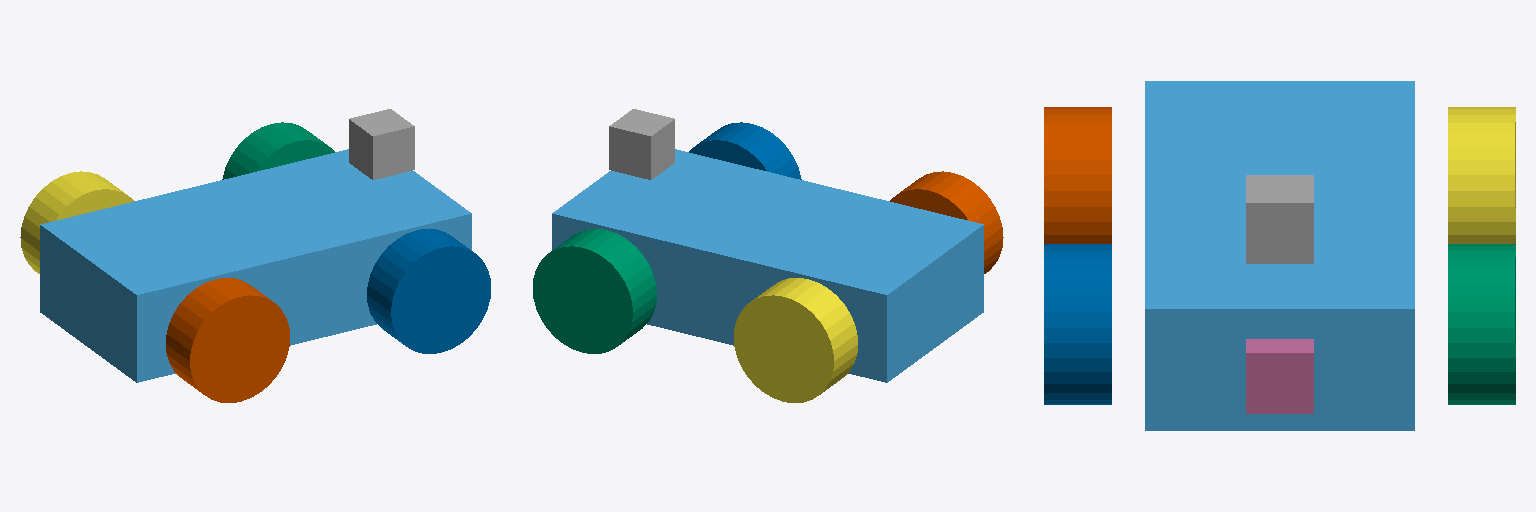
The robot description file, URDF, robot "mobot":
<?xml version="1.0" ?>
<!-- =================================================================================== -->
<!-- |    This document was autogenerated by xacro from [local-path]/ros2_ws/src/mobot/urdf/mobot.urdf.xacro | -->
<!-- |    EDITING THIS FILE BY HAND IS NOT RECOMMENDED                                 | -->
<!-- =================================================================================== -->
<robot name="mobot">
  <!--skid_steer_drive_controller-->
  <gazebo>
    <plugin filename="libgazebo_ros_diff_drive.so" name="skid_steer_drive_controller">
      <ros>
        <namespace>/mobot</namespace>
        <argument>/cmd_vel:=mr_cme_vel</argument>
        <argument>/odom:=odom</argument>
      </ros>
      <update_rate>100.0</update_rate>
      <num_wheel_pairs>2</num_wheel_pairs>
      <odometry_frame>odom</odometry_frame>
      <left_joint>front_left_wheel_joint</left_joint>
      <left_joint>back_left_wheel_joint</left_joint>
      <wheel_separation>0.4</wheel_separation>
      <wheel_diameter>0.2</wheel_diameter>
      <right_joint>front_right_wheel_joint</right_joint>
      <right_joint>back_right_wheel_joint</right_joint>
      <wheel_separation>0.4</wheel_separation>
      <wheel_diameter>0.2</wheel_diameter>
      <robot_base_frame>robot_footprint</robot_base_frame>
      <max_wheel_torque>20</max_wheel_torque>
      <publish_odom>true</publish_odom>
      <publish_odom_tf>true</publish_odom_tf>
      <publish_wheel_tf>true</publish_wheel_tf>
      <odometry_source>world</odometry_source>
    </plugin>
  </gazebo>
  <!-- camera -->
  <gazebo reference="camera">
    <sensor name="camera_sensor" type="camera">
      <update_rate>30.0</update_rate>
      <always_on>1</always_on>
      <camera name="camera">
        <horizontal_fov>1.3962634</horizontal_fov>
        <image>
          <width>800</width>
          <height>800</height>
          <format>R8G8B8</format>
        </image>
        <clip>
          <near>0.02</near>
          <far>300</far>
        </clip>
        <distortion>
          <k1>0.0</k1>
          <k2>0.0</k2>
          <k3>0.0</k3>
          <p1>0.0</p1>
          <p2>0.0</p2>
          <center>0.5 0.5</center>
        </distortion>
      </camera>
      <plugin filename="libgazebo_ros_camera.so" name="camera_controller">
        <ros>
          <namespace>/mobot</namespace>
          <argument>camera/image_raw:=/mobot/camera/image</argument>
          <argument>camera/camera_info:=/mobot/camera/image/camera_info</argument>
        </ros>
        <camera_name>camera</camera_name>
        <frame_name>camera</frame_name>
        <hack_baseline>0.07</hack_baseline>
      </plugin>
    </sensor>
  </gazebo>
  <!-- hokuyo -->
  <gazebo reference="hokuyo">
    <sensor name="head_hokuyo_sensor" type="ray">
      <pose>0 0 0 0 0 0</pose>
      <visualize>false</visualize>
      <update_rate>30</update_rate>
      <ray>
        <scan>
          <horizontal>
            <samples>720</samples>
            <resolution>1</resolution>
            <min_angle>-1.570796</min_angle>
            <max_angle>1.570796</max_angle>
          </horizontal>
        </scan>
        <range>
          <min>0.10</min>
          <max>30.0</max>
          <resolution>0.01</resolution>
        </range>
        <noise>
          <type>gaussian</type>
          <!-- Noise parameters based on published spec for Hokuyo laser
                achieving "+-30mm" accuracy at range < 10m.  A mean of 0.0m and
                stddev of 0.01m will put 99.7% of samples within 0.03m of the true
                reading. -->
          <mean>0.0</mean>
          <stddev>0.01</stddev>
        </noise>
      </ray>
      <update_rate>30</update_rate>
      <plugin filename="libgazebo_ros_ray_sensor.so" name="gazebo_ros_head_hokuyo_controller">
        <ros>
          <namespace>/mobot</namespace>
          <argument>~/out:=scan</argument>
        </ros>
        <output_type>sensor_msgs/LaserScan</output_type>
      </plugin>
    </sensor>
  </gazebo>
  <link name="robot_footprint"/>
  <joint name="robot_footprint_joint" type="fixed">
    <origin rpy="0 0 0" xyz="0 0 0"/>
    <parent link="robot_footprint"/>
    <child link="chassis"/>
  </joint>
  <link name="chassis">
    <pose>0 0 0.1 0 0 0</pose>
    <inertial>
      <mass value="15.0"/>
      <origin rpy=" 0 0 0" xyz="0.0 0 0"/>
      <inertia ixx="0.1" ixy="0" ixz="0" iyy="0.1" iyz="0" izz="0.1"/>
    </inertial>
    <collision name="collision">
      <origin rpy=" 0 0 0" xyz="0 0 0"/>
      <geometry>
        <box size=".4 .2 .1"/>
      </geometry>
    </collision>
    <visual name="chassis_visual">
      <origin rpy=" 0 0 0" xyz="0 0 0"/>
      <geometry>
        <box size=".4 .2 .1"/>
      </geometry>
    </visual>
  </link>
  <link name="front_left_wheel">
    <inertial>
      <mass value="5.0"/>
      <origin rpy=" 0 1.5707 1.5707" xyz="0.0 0 0"/>
      <inertia ixx="0.1" ixy="0" ixz="0" iyy="0.1" iyz="0" izz="0.1"/>
    </inertial>
    <visual>
      <origin rpy=" 0 1.5707 1.5707" xyz="0.0 0 0"/>
      <geometry>
        <cylinder length="0.05" radius="0.06"/>
      </geometry>
    </visual>
    <collision>
      <origin rpy=" 0 1.5707 1.5707" xyz="0.0 0 0"/>
      <geometry>
        <cylinder length="0.05" radius="0.06"/>
      </geometry>
    </collision>
  </link>
  <link name="back_left_wheel">
    <inertial>
      <mass value="5.0"/>
      <origin rpy=" 0 1.5707 1.5707" xyz="0.0 0 0"/>
      <inertia ixx="0.1" ixy="0" ixz="0" iyy="0.1" iyz="0" izz="0.1"/>
    </inertial>
    <visual>
      <origin rpy=" 0 1.5707 1.5707" xyz="0.0 0 0"/>
      <geometry>
        <cylinder length="0.05" radius="0.06"/>
      </geometry>
    </visual>
    <collision>
      <origin rpy=" 0 1.5707 1.5707" xyz="0.0 0 0"/>
      <geometry>
        <cylinder length="0.05" radius="0.06"/>
      </geometry>
    </collision>
  </link>
  <link name="front_right_wheel">
    <inertial>
      <mass value="5.0"/>
      <origin rpy=" 0 1.5707 1.5707" xyz="0.0 0 0"/>
      <inertia ixx="0.1" ixy="0" ixz="0" iyy="0.1" iyz="0" izz="0.1"/>
    </inertial>
    <visual>
      <origin rpy=" 0 1.5707 1.5707" xyz="0.0 0 0"/>
      <geometry>
        <cylinder length="0.05" radius="0.06"/>
      </geometry>
    </visual>
    <collision>
      <origin rpy=" 0 1.5707 1.5707" xyz="0.0 0 0"/>
      <geometry>
        <cylinder length="0.05" radius="0.06"/>
      </geometry>
    </collision>
  </link>
  <link name="back_right_wheel">
    <inertial>
      <mass value="5.0"/>
      <origin rpy=" 0 1.5707 1.5707" xyz="0.0 0 0"/>
      <inertia ixx="0.1" ixy="0" ixz="0" iyy="0.1" iyz="0" izz="0.1"/>
    </inertial>
    <visual>
      <origin rpy=" 0 1.5707 1.5707" xyz="0.0 0 0"/>
      <geometry>
        <cylinder length="0.05" radius="0.06"/>
      </geometry>
    </visual>
    <collision>
      <origin rpy=" 0 1.5707 1.5707" xyz="0.0 0 0"/>
      <geometry>
        <cylinder length="0.05" radius="0.06"/>
      </geometry>
    </collision>
  </link>
  <link name="camera">
    <inertial>
      <mass value="0.1"/>
      <origin rpy=" 0 0 0" xyz="0.05 0.05 0.05"/>
      <inertia ixx="1e-6" ixy="0" ixz="0" iyy="1e-6" iyz="0" izz="1e-6"/>
    </inertial>
    <visual name="camera_visual">
      <origin rpy="0 0 0" xyz="0 0 0"/>
      <geometry>
        <box size="0.05 0.05 0.05"/>
      </geometry>
    </visual>
    <collision name="camera_colision">
      <origin rpy="0 0 0" xyz="0 0 0"/>
      <geometry>
        <box size="0.05 0.05 0.05"/>
      </geometry>
    </collision>
  </link>
  <link name="hokuyo">
    <inertial>
      <mass value="1e-5"/>
      <origin rpy=" 0 0 0" xyz="0 0 0"/>
      <inertia ixx="1e-6" ixy="0" ixz="0" iyy="1e-6" iyz="0" izz="1e-6"/>
    </inertial>
    <visual name="hokuyo_visual">
      <origin rpy="0 0 0" xyz="0 0 0"/>
      <geometry>
        <!-- <mesh filename="$(find mobot)/meshes/hokuyo.dae"/> -->
        <box size="0.05 0.05 0.05"/>
      </geometry>
    </visual>
    <collision name="hokuyo_colision">
      <origin rpy="0 0 0" xyz="0 0 0"/>
      <geometry>
        <box size="0.1 0.1 0.1"/>
      </geometry>
    </collision>
  </link>
  <joint name="front_left_wheel_joint" type="continuous">
    <origin rpy="0 0 0" xyz="0.12 0.15 0"/>
    <child link="front_left_wheel"/>
    <parent link="chassis"/>
    <axis rpy="0 0 0" xyz="0 1 0"/>
    <limit effort="10000" velocity="1000"/>
    <dynamics damping="1.0" friction="1.0"/>
  </joint>
  <joint name="front_right_wheel_joint" type="continuous">
    <origin rpy="0 0 0" xyz="0.12 -0.15 0"/>
    <child link="front_right_wheel"/>
    <parent link="chassis"/>
    <axis rpy="0 0 0" xyz="0 1 0"/>
    <limit effort="10000" velocity="1000"/>
    <dynamics damping="1.0" friction="1.0"/>
  </joint>
  <joint name="back_left_wheel_joint" type="continuous">
    <origin rpy="0 0 0" xyz="-0.12 0.15 0"/>
    <child link="back_left_wheel"/>
    <parent link="chassis"/>
    <axis rpy="0 0 0" xyz="0 1 0"/>
    <limit effort="10000" velocity="1000"/>
    <dynamics damping="1.0" friction="1.0"/>
  </joint>
  <joint name="back_right_wheel_joint" type="continuous">
    <origin rpy="0 0 0" xyz="-0.12 -0.15 0"/>
    <child link="back_right_wheel"/>
    <parent link="chassis"/>
    <axis rpy="0 0 0" xyz="0 1 0"/>
    <limit effort="10000" velocity="1000"/>
    <dynamics damping="1.0" friction="1.0"/>
  </joint>
  <joint name="camera_joint" type="fixed">
    <origin rpy="0 0 0" xyz="0.2 0 0"/>
    <child link="camera"/>
    <parent link="chassis"/>
    <axis rpy="0 0 0" xyz="0 1 0"/>
  </joint>
  <joint name="hokuyo_joint" type="fixed">
    <origin rpy="0 0 0" xyz="0.15 0 0.1"/>
    <child link="hokuyo"/>
    <parent link="chassis"/>
    <axis rpy="0 0 0" xyz="0 1 0"/>
  </joint>
  <gazebo reference="chassis">
    <material>Gazebo/Blue</material>
  </gazebo>
  <gazebo reference="camera">
    <material>Gazebo/Red</material>
  </gazebo>
  <gazebo reference="hokuyo">
    <material>Gazebo/Black</material>
  </gazebo>
  <gazebo reference="front_left_wheel">
    <material>Gazebo/Gray</material>
  </gazebo>
  <gazebo reference="back_left_wheel">
    <material>Gazebo/Gray</material>
  </gazebo>
  <gazebo reference="front_right_wheel">
    <material>Gazebo/Gray</material>
  </gazebo>
  <gazebo reference="back_right_wheel">
    <material>Gazebo/Gray</material>
  </gazebo>
</robot>

--- Render facts (derived) ---
The picture shows the robot from 3 angles, left to right: view 1: azimuth 30°, elevation 25°; view 2: azimuth 150°, elevation 25°; view 3: azimuth 270°, elevation 25°; orthographic projection.
Model mobot with 8 links and 7 joints (4 continuous, 3 fixed), rooted at robot_footprint, posed all joints at 0.
Links seen in each view (by area): view 1: chassis, back_right_wheel, front_right_wheel, back_left_wheel, hokuyo, front_left_wheel; view 2: chassis, back_left_wheel, front_left_wheel, back_right_wheel, hokuyo, front_right_wheel; view 3: chassis, front_left_wheel, front_right_wheel, back_left_wheel, back_right_wheel, hokuyo, camera.
Link boxes in pixels (bbox=[...]): chassis: bbox=[40, 149, 471, 382]; back_right_wheel: bbox=[166, 278, 289, 402]; front_right_wheel: bbox=[367, 229, 490, 353]; back_left_wheel: bbox=[20, 171, 133, 273]; hokuyo: bbox=[349, 109, 414, 179]; front_left_wheel: bbox=[222, 122, 334, 179]; chassis: bbox=[552, 149, 983, 382]; back_left_wheel: bbox=[734, 278, 857, 402]; front_left_wheel: bbox=[533, 229, 656, 353]; back_right_wheel: bbox=[890, 171, 1003, 273]; hokuyo: bbox=[609, 109, 674, 179]; front_right_wheel: bbox=[689, 122, 801, 179]; chassis: bbox=[1145, 81, 1414, 430]; front_left_wheel: bbox=[1448, 244, 1515, 404]; front_right_wheel: bbox=[1044, 244, 1111, 404]; back_left_wheel: bbox=[1448, 107, 1515, 243]; back_right_wheel: bbox=[1044, 107, 1111, 243]; hokuyo: bbox=[1246, 175, 1313, 263]; camera: bbox=[1246, 339, 1313, 413].
Bounding box of the posed robot: 0.425 × 0.35 × 0.185 m (x, y, z).
Geometry: primitives only (box / cylinder / sphere), no mesh files.
